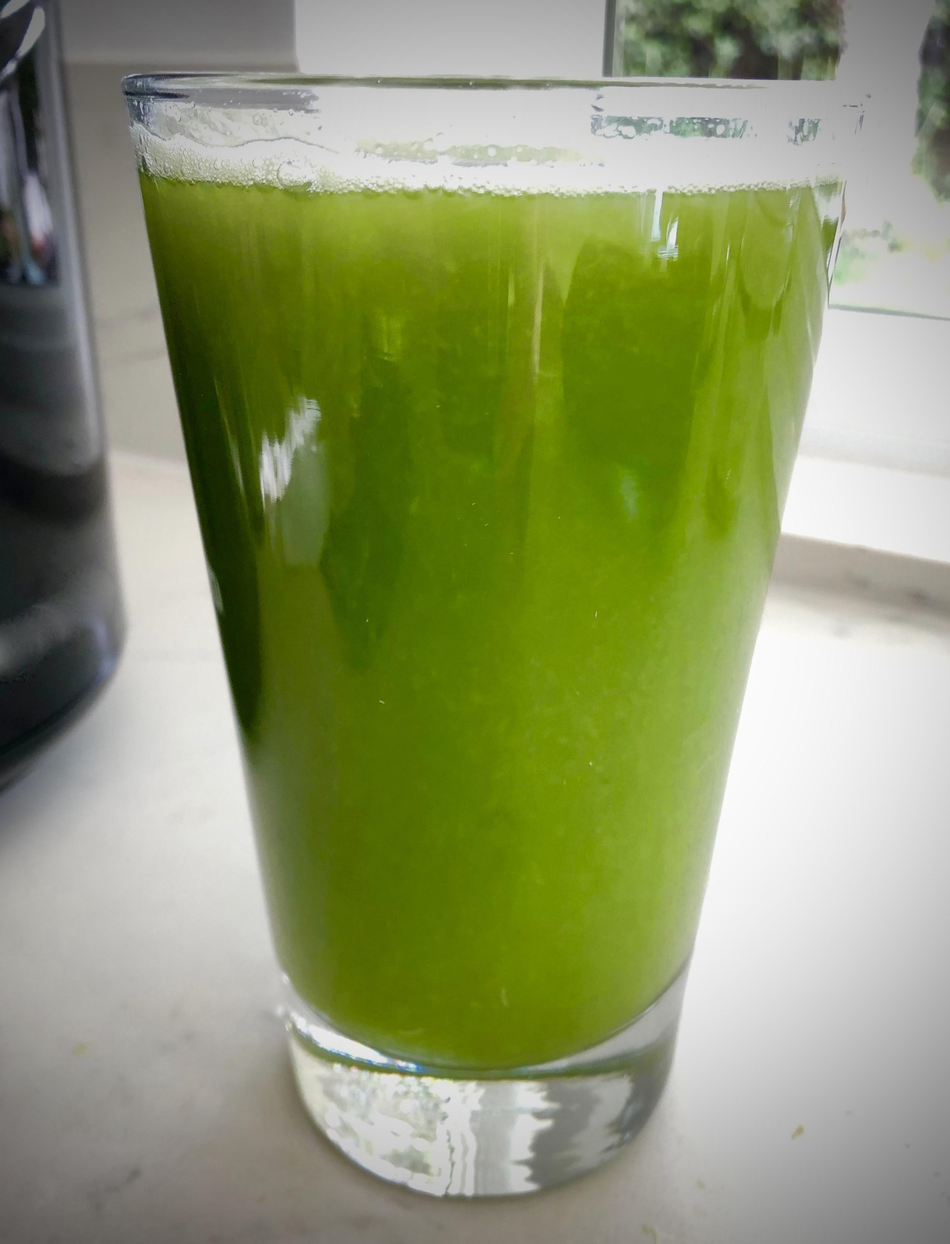glass-normal: (119, 52, 860, 1222)
